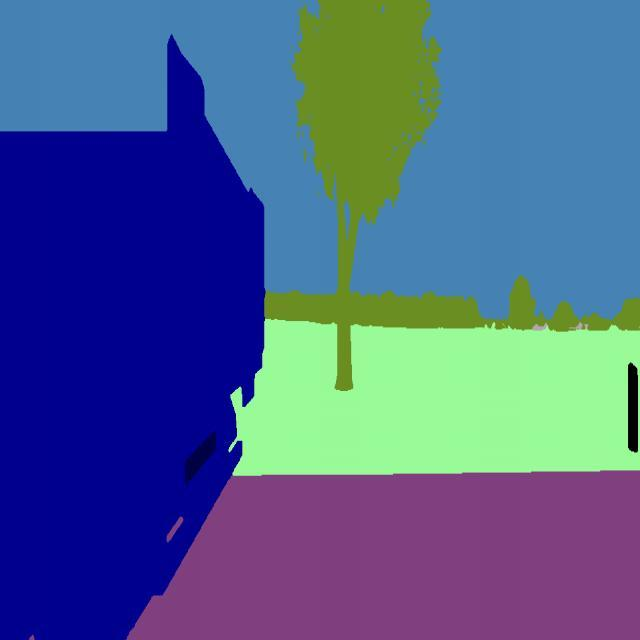unsafe: (0, 32, 268, 640)
